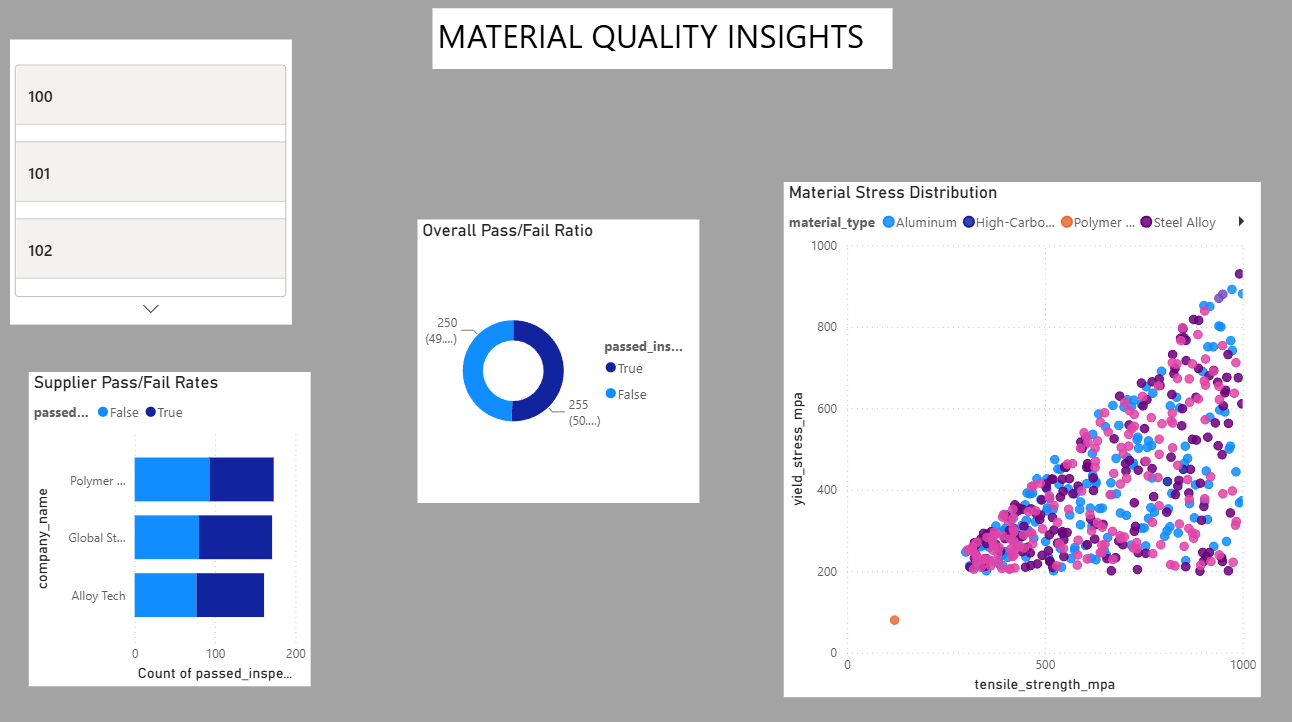

The page's visual inventory and layout, read from the dashboard file:
{"tool":"powerbi","page":{"name":"Page 1","canvas":[1280,720],"ordinal":0},"visuals":[{"type":"donutChart","title":"Overall Pass/Fail Ratio","fields":{"Category":["materialqualitydb quality_test_results.passed_inspection"],"Y":["CountNonNull(materialqualitydb quality_test_results.passed_inspection)"]},"box":[412.9,220,278.6,280],"z":0},{"type":"cardVisual","fields":{"Rows":["materialqualitydb material_batches.batch_id"]},"box":[10,41.4,278.6,281.4],"z":1000},{"type":"scatterChart","title":"Material Stress Distribution","fields":{"X":["materialqualitydb material_batches.tensile_strength_mpa"],"Y":["materialqualitydb material_batches.yield_stress_mpa"],"Series":["materialqualitydb material_batches.material_type"]},"box":[774.3,182.9,471.4,508.6],"z":2000},{"type":"barChart","title":"Supplier Pass/Fail Rates","fields":{"Category":["materialqualitydb suppliers.company_name"],"Y":["CountNonNull(materialqualitydb quality_test_results.passed_inspection)"],"Series":["materialqualitydb quality_test_results.passed_inspection"]},"box":[28.6,370,278.6,310],"z":3000},{"type":"textbox","box":[427.1,11.4,454.3,60],"z":4000}]}

Visuals, with their boxes in screenshot pixels (x1, y1, x2, y2), scaled from the page's 1280x720 canvas onto the 1292x722 screenshot:
"Overall Pass/Fail Ratio" donutChart: box=[417, 221, 698, 501]
cardVisual - materialqualitydb material_batches.batch_id: box=[10, 42, 291, 324]
"Material Stress Distribution" scatterChart: box=[782, 183, 1257, 693]
"Supplier Pass/Fail Rates" barChart: box=[29, 371, 310, 682]
textbox: box=[431, 11, 890, 72]
